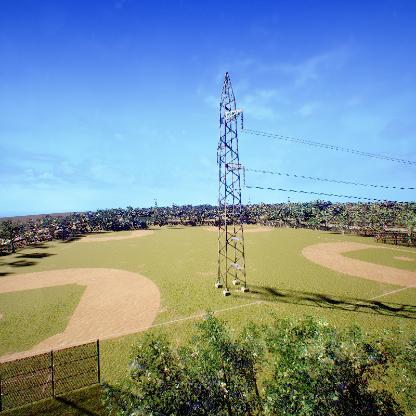tower: (208, 70, 250, 296)
